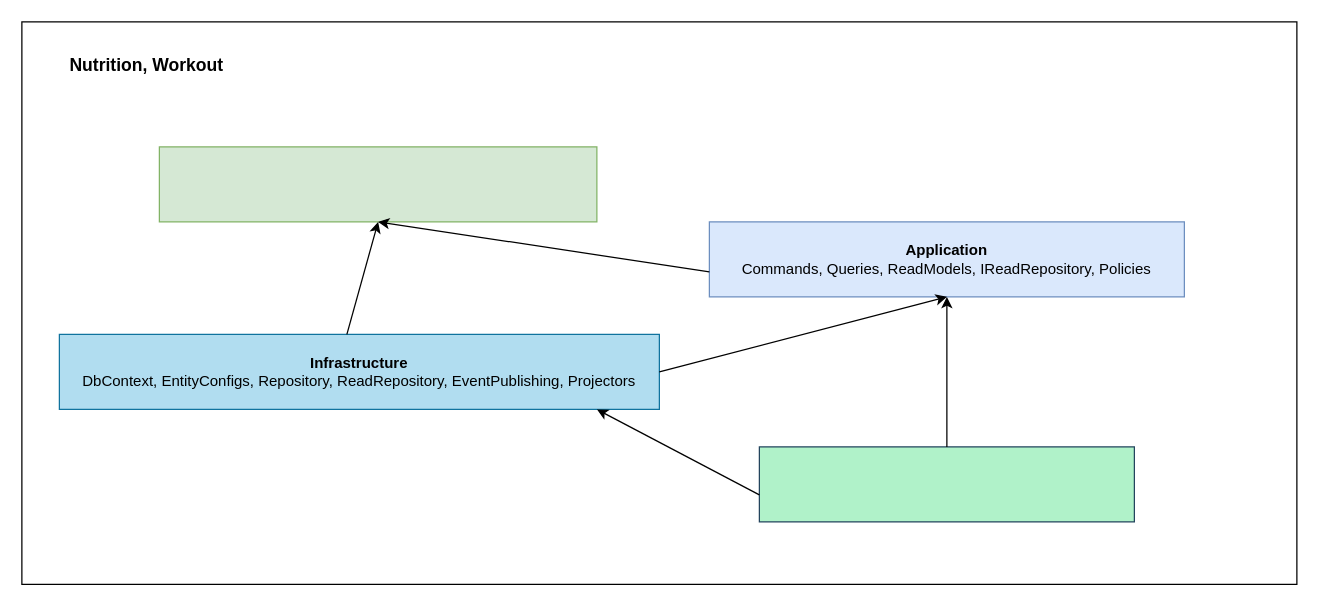
This 1319x606 diagram has some shape labels left out. Each missing label, with the centre of its shape:
"Domain Aggregates, Entities, ValueObjects, Irepository, Events, Rules" belongs at [377,184].
"RestApi Controllers, DTOs, Program.cs" belongs at [946,484].
